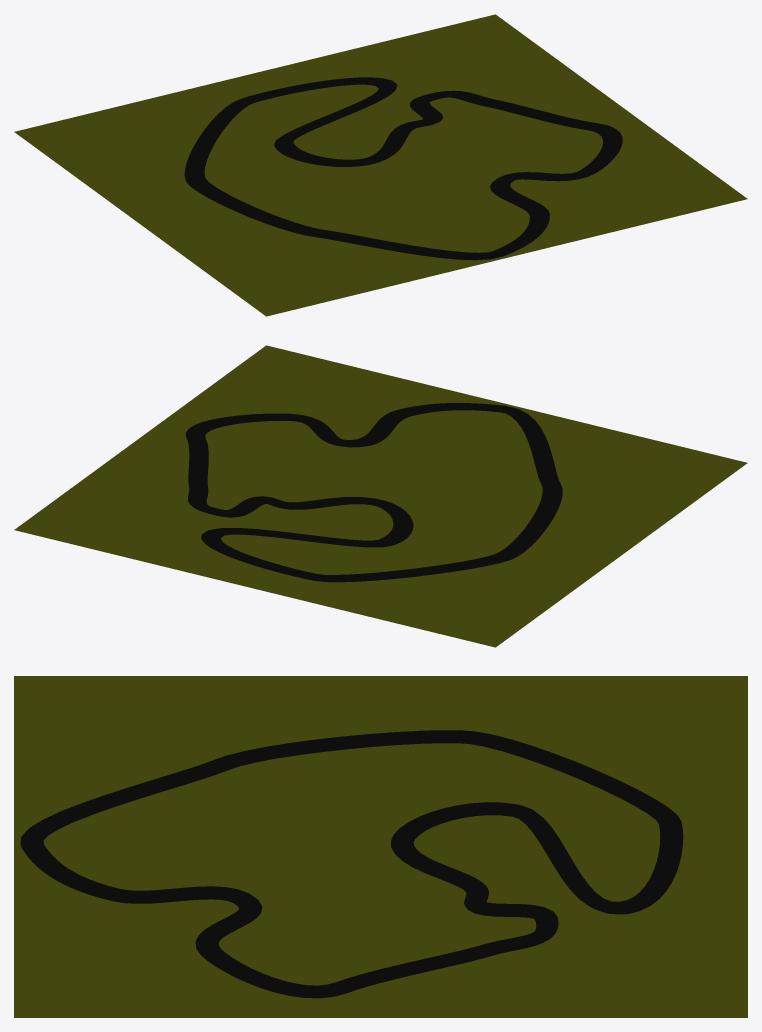
File: env.glb
The picture shows the model from 3 angles, top to bottom: view 1: azimuth 30°, elevation 25°; view 2: azimuth 150°, elevation 25°; view 3: azimuth 270°, elevation 25°; orthographic projection. The views are drawn at different scales.
Visible parts, largest first — view 1: Plane, Cube; view 2: Plane, Cube; view 3: Plane, Cube.
Part boxes in pixels (x1,y1,x2,y2): Plane: (14,14,747,316); Cube: (184,77,622,260); Plane: (14,345,747,647); Cube: (185,403,562,582); Plane: (14,676,747,1017); Cube: (20,730,683,998).
Size of the model in its own units: 1390 by 1.09 by 1262.
